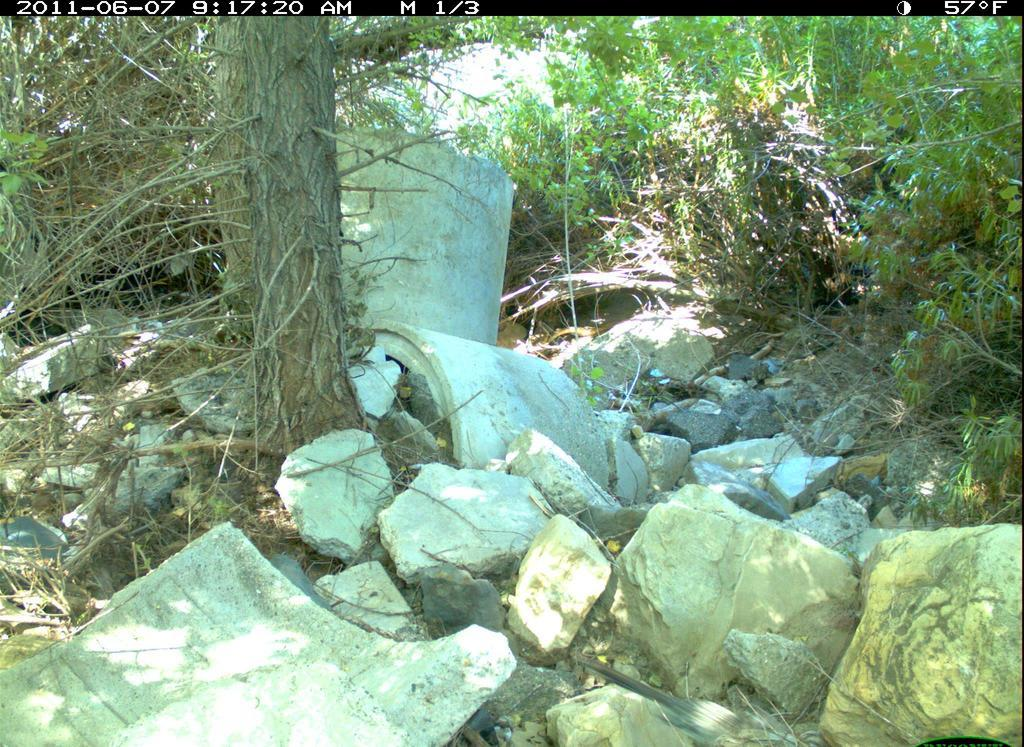bird: (576, 651, 768, 747)
